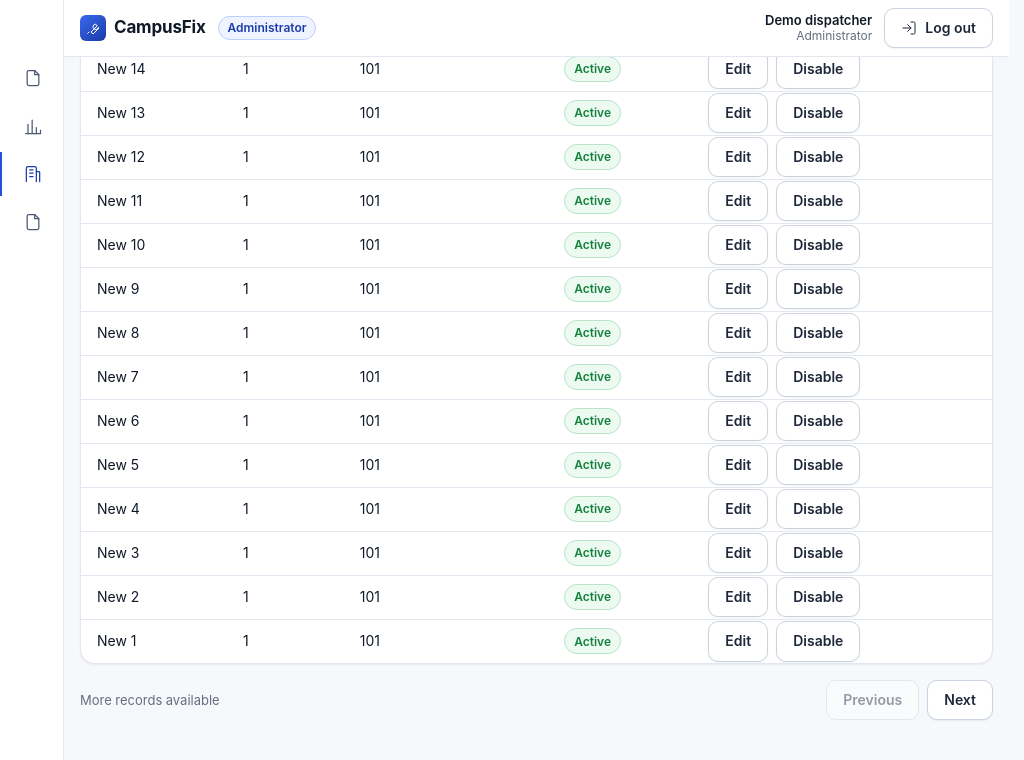
Test: #49 location management — FR-12 › pages through the complete admin list with server cursors
The width and height of the screenshot is (1024, 760).
(page scrolled)
Expected: the text "Teaching Building A" is not shown
Click the button "Next" at coordinates (960, 700), box [927,680,993,720]
(page scrolled)
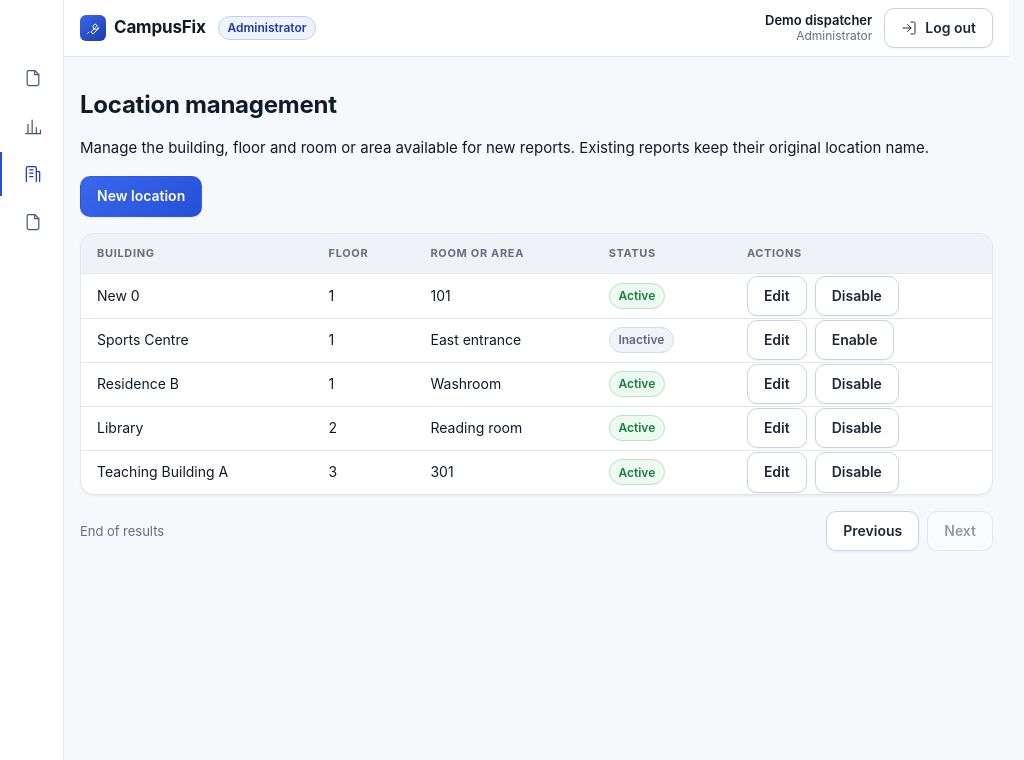
Expected: the text "Teaching Building A" is shown, [81,450,312,494]
Click the button "Previous" at coordinates (873, 531), box [826,511,919,552]
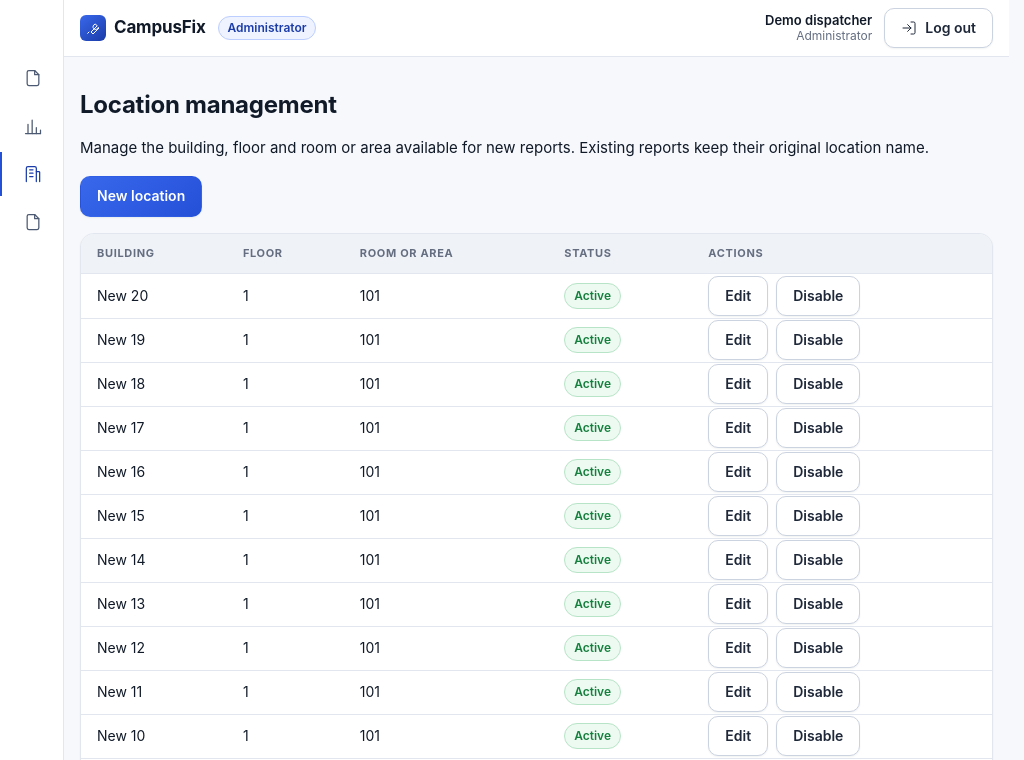
Expected: the text "New 20" is shown, [81,274,227,318]
